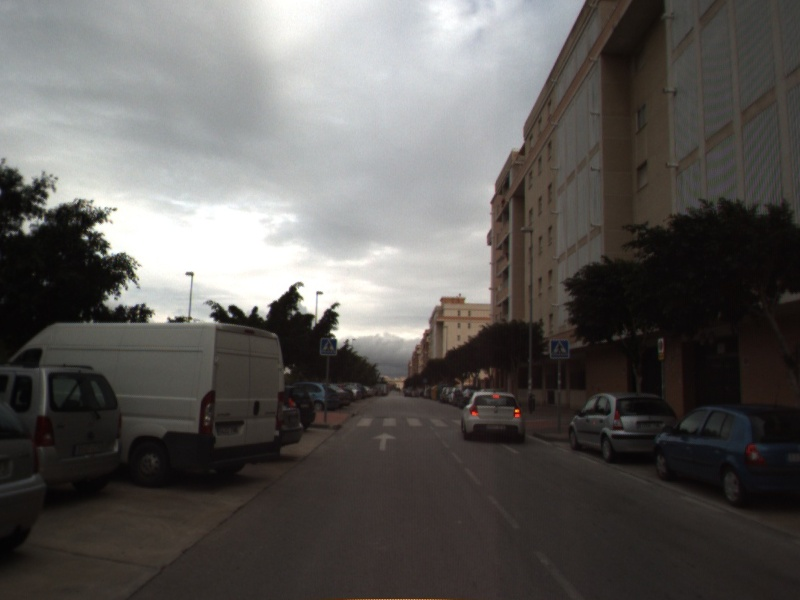STRAIGHT: (370, 430, 399, 453)
